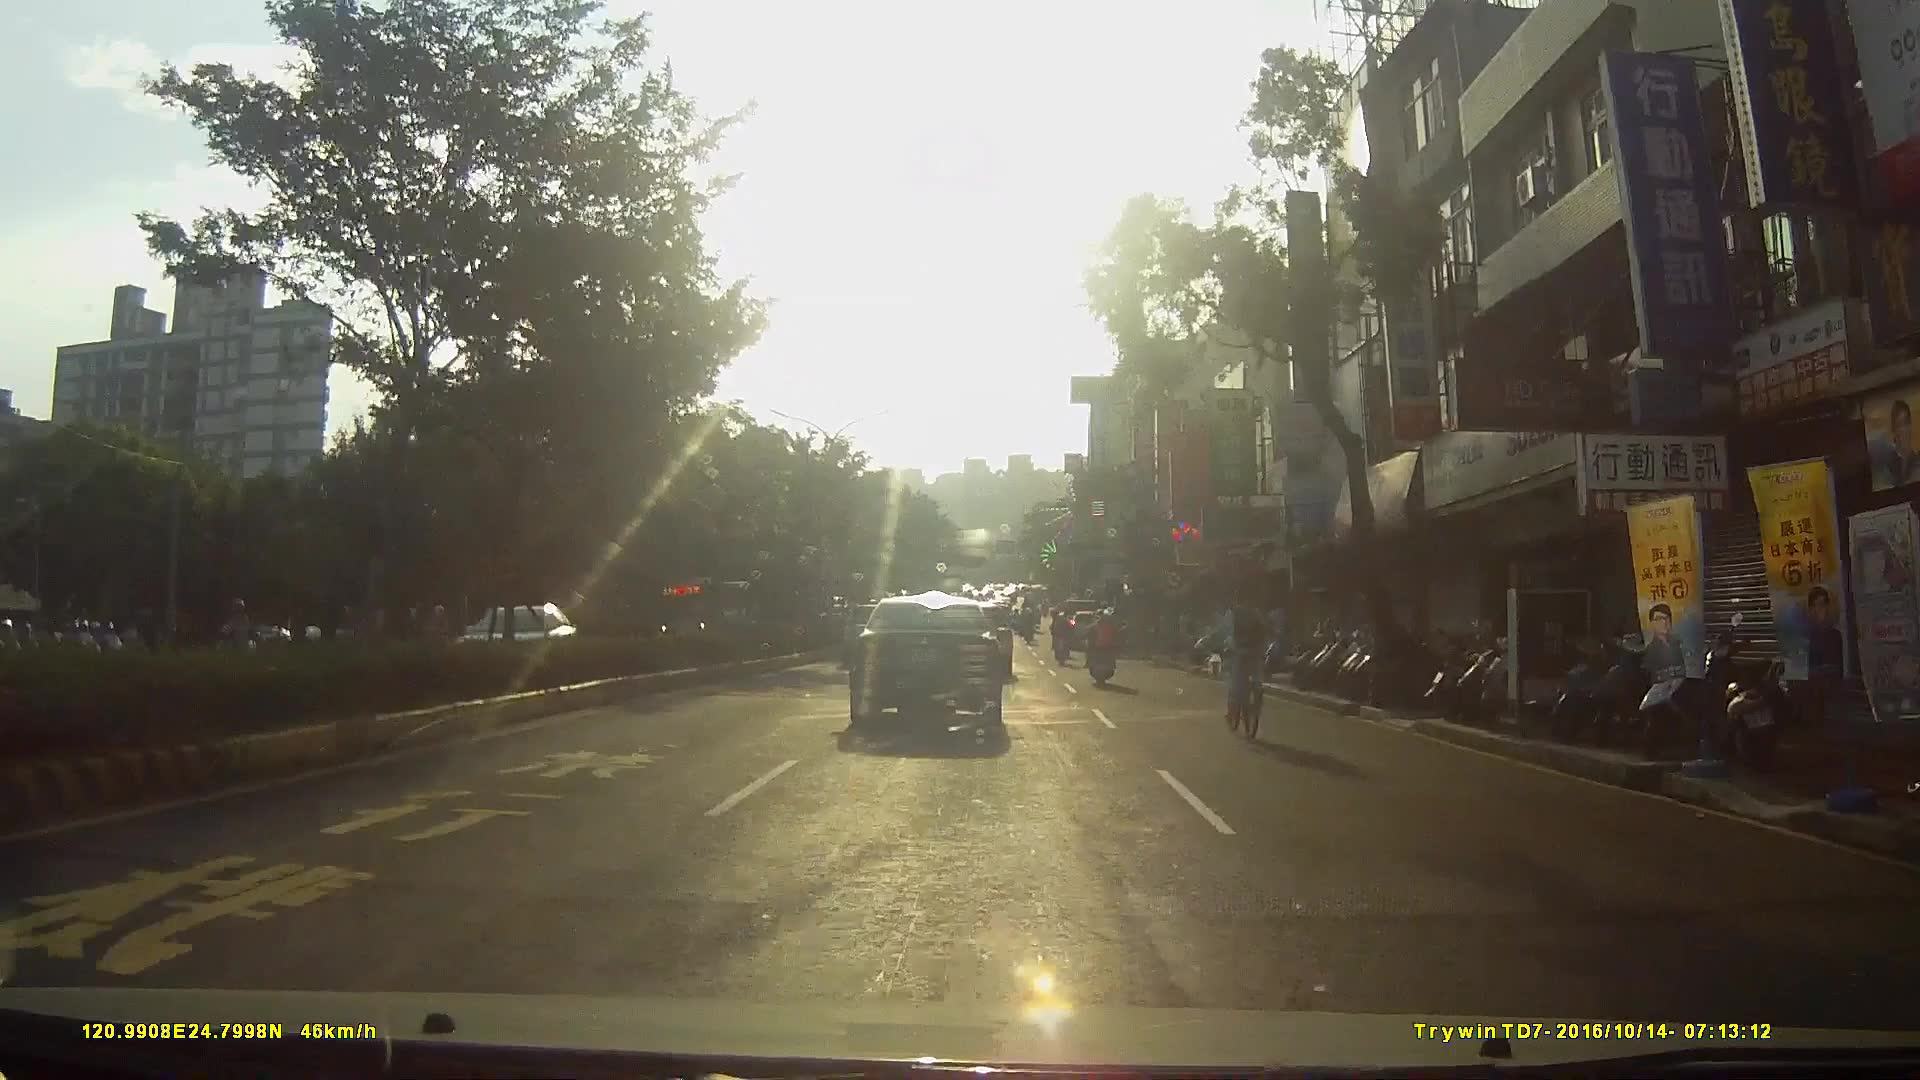rider: (1214, 584, 1285, 741), (202, 600, 274, 689), (1086, 612, 1119, 690), (1049, 612, 1075, 667)
vehicle: (850, 605, 1020, 755), (455, 608, 592, 691)
